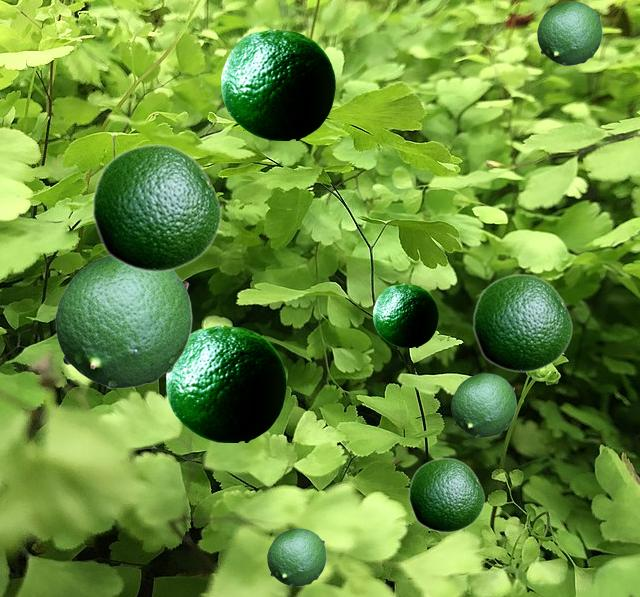calamansi: (55, 254, 191, 387), (91, 143, 221, 272), (166, 324, 285, 441), (221, 28, 334, 139), (472, 273, 572, 372), (408, 457, 484, 532), (373, 283, 437, 346), (451, 373, 515, 436), (537, 1, 601, 64), (267, 528, 325, 585)
